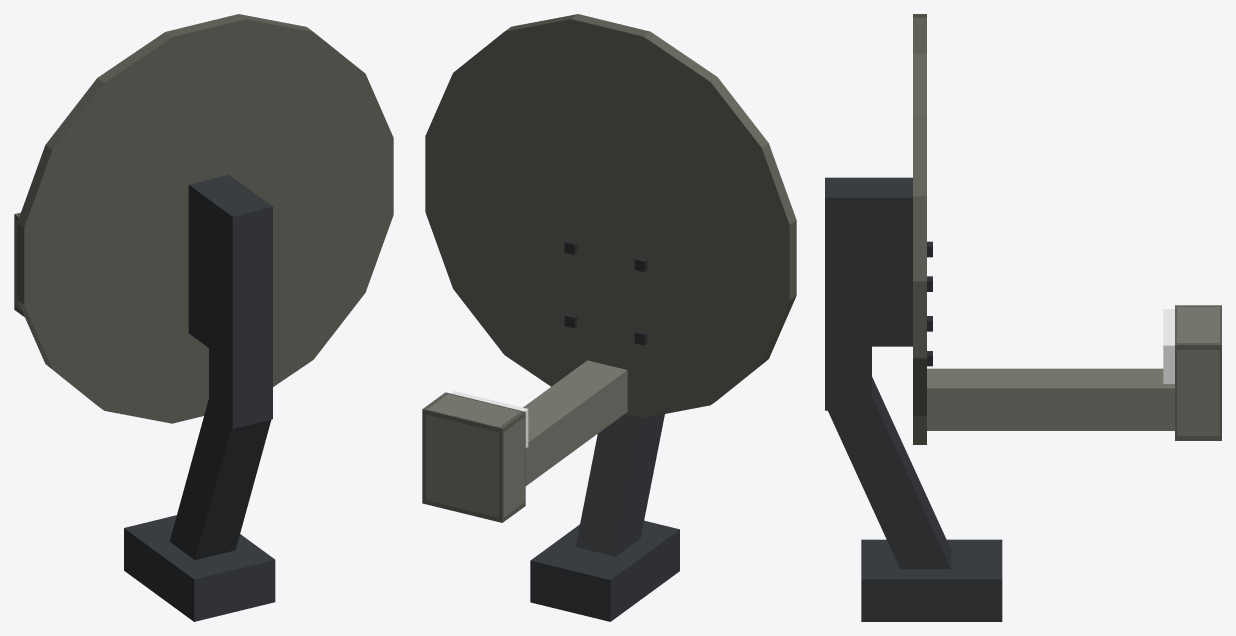
Rendered from antenna.glb.
3 renders of one model, left to right at view 1: azimuth 30°, elevation 25°; view 2: azimuth 150°, elevation 25°; view 3: azimuth 270°, elevation 25°, orthographic.
Parts seen in each view (by area): view 1: hexadecagon_8, hexadecagon_5, hexadecagon_4, hexadecagon_6, hexadecagon_9, hexadecagon_7, cube_2, hexadecagon_10, cube_0, cube_1, hexadecagon_11, cube_3; view 2: hexadecagon_8, hexadecagon_4, hexadecagon_11, hexadecagon_7, hexadecagon_5, hexadecagon_6, cube_17, hexadecagon_9, hexadecagon_10, cube_0, cube_1, cube_16; view 3: cube_16, cube_1, cube_2, cube_0, cube_3, cube_17, hexadecagon_7, hexadecagon_8, hexadecagon_6, cube_18, hexadecagon_9, hexadecagon_5.
Boxes of the visible parts, x1=… form: hexadecagon_8: x1=48, y1=32, x2=365, y2=410; hexadecagon_5: x1=17, y1=145, x2=393, y2=292; hexadecagon_4: x1=45, y1=78, x2=365, y2=359; hexadecagon_6: x1=17, y1=138, x2=393, y2=304; hexadecagon_9: x1=104, y1=14, x2=313, y2=423; hexadecagon_7: x1=17, y1=74, x2=393, y2=368; cube_2: x1=209, y1=189, x2=272, y2=428; hexadecagon_10: x1=166, y1=14, x2=245, y2=423; cube_0: x1=124, y1=515, x2=275, y2=621; cube_1: x1=169, y1=392, x2=271, y2=559; hexadecagon_11: x1=97, y1=32, x2=313, y2=386; cube_3: x1=188, y1=175, x2=248, y2=347; hexadecagon_8: x1=453, y1=32, x2=765, y2=404; hexadecagon_4: x1=453, y1=77, x2=768, y2=354; hexadecagon_11: x1=504, y1=31, x2=716, y2=386; hexadecagon_7: x1=425, y1=73, x2=796, y2=363; hexadecagon_5: x1=425, y1=143, x2=796, y2=288; hexadecagon_6: x1=425, y1=136, x2=796, y2=300; cube_17: x1=422, y1=392, x2=525, y2=522; hexadecagon_9: x1=504, y1=14, x2=710, y2=417; hexadecagon_10: x1=571, y1=14, x2=649, y2=417; cube_0: x1=530, y1=520, x2=679, y2=621; cube_1: x1=575, y1=413, x2=664, y2=556; cube_16: x1=523, y1=360, x2=627, y2=485; cube_16: x1=927, y1=368, x2=1174, y2=430; cube_1: x1=825, y1=377, x2=951, y2=569; cube_2: x1=825, y1=177, x2=871, y2=410; cube_0: x1=861, y1=539, x2=1002, y2=621; cube_3: x1=872, y1=177, x2=912, y2=346; cube_17: x1=1175, y1=305, x2=1221, y2=440; hexadecagon_7: x1=913, y1=196, x2=926, y2=281; hexadecagon_8: x1=913, y1=116, x2=926, y2=196; hexadecagon_6: x1=913, y1=281, x2=926, y2=358; cube_18: x1=1163, y1=309, x2=1174, y2=383; hexadecagon_9: x1=913, y1=53, x2=926, y2=116; hexadecagon_5: x1=913, y1=358, x2=926, y2=415.
Size of the model in its own units: 1.15 by 1.69 by 1.07.
3 materials, 3 textured.
